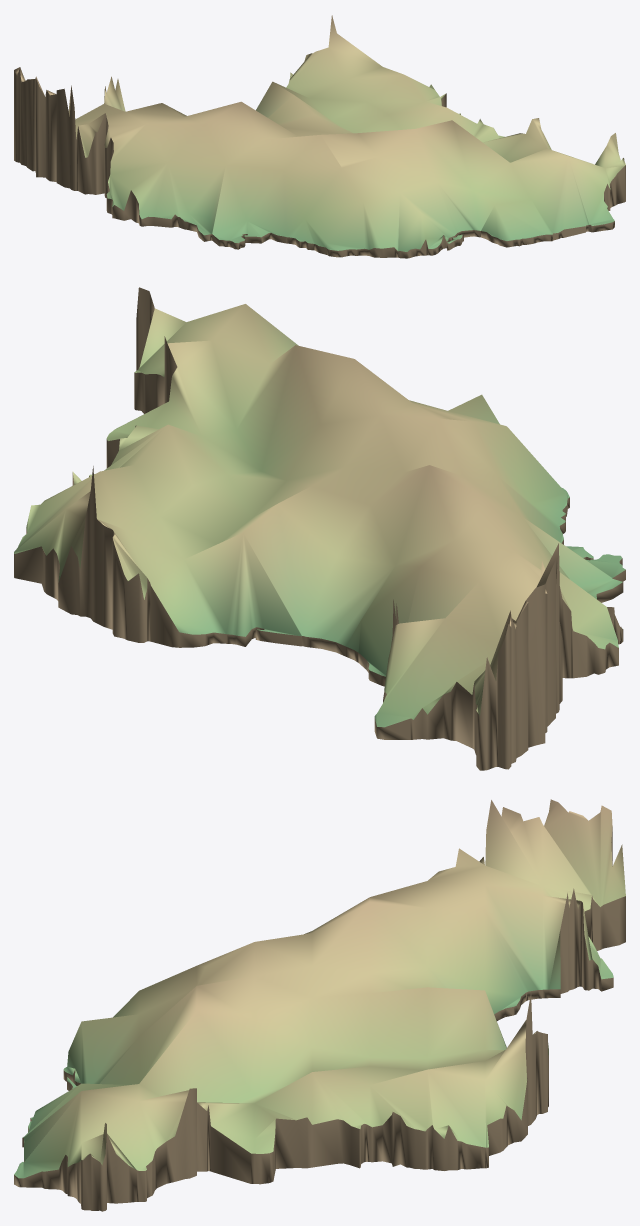
Rendered from IRN.glb.
The picture shows the model from 3 angles, top to bottom: view 1: azimuth 30°, elevation 25°; view 2: azimuth 150°, elevation 25°; view 3: azimuth 270°, elevation 25°; orthographic projection. The views are drawn at different scales.
Parts seen in each view (by area): view 1: IRN; view 2: IRN; view 3: IRN.
Boxes of the visible parts, x1=… form: IRN: x1=14, y1=15, x2=625, y2=258; IRN: x1=14, y1=287, x2=625, y2=770; IRN: x1=14, y1=799, x2=625, y2=1211.
Bounding box in the file's own units: 1.41 × 0.338 × 1.31.
